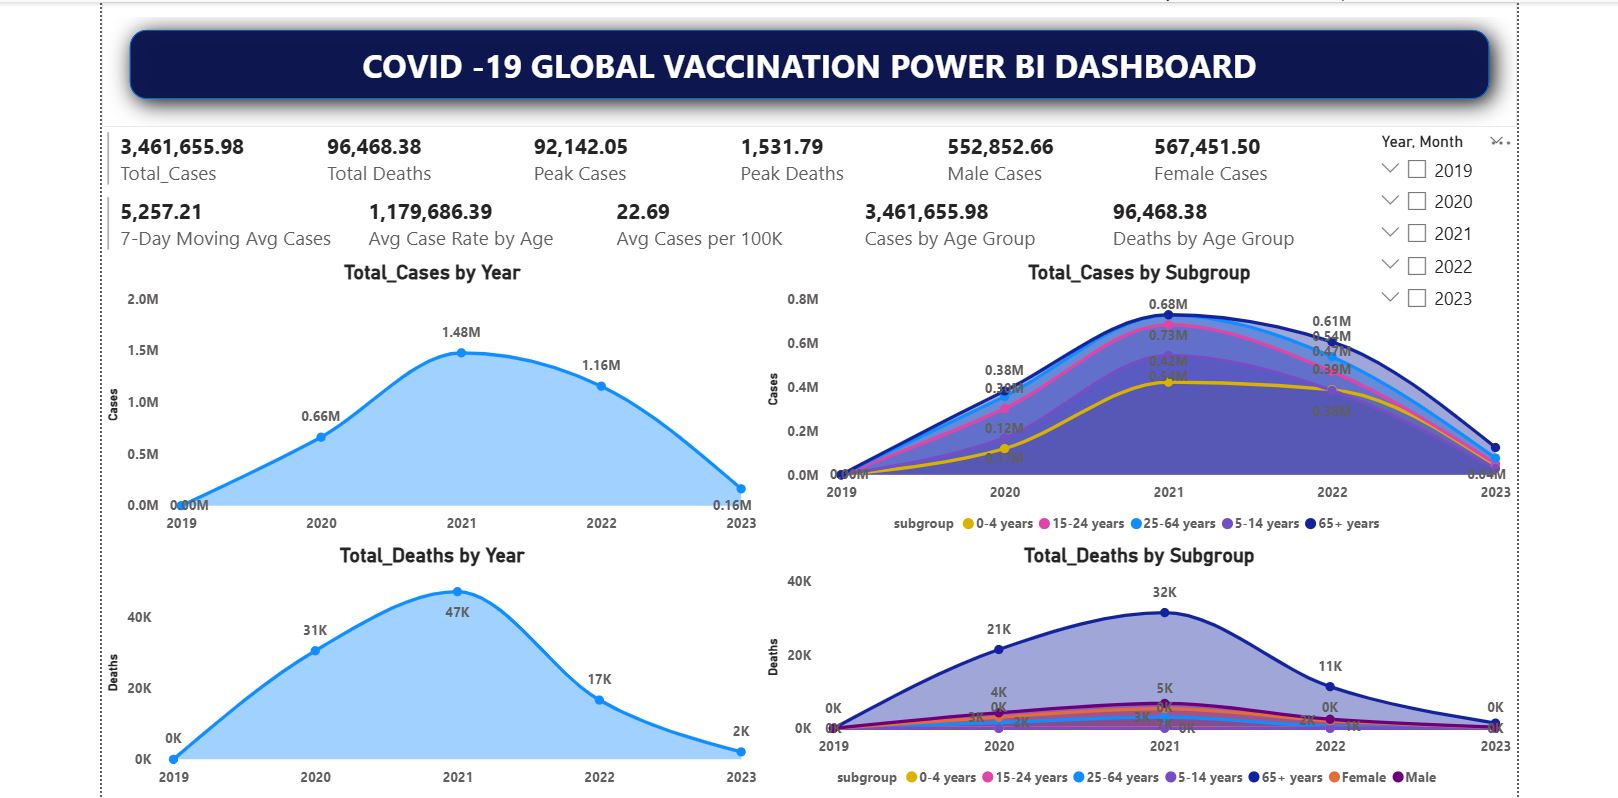

This screenshot's page, from the dashboard's own definition file:
{"tool":"powerbi","page":{"name":"Page 1","canvas":[1280,720],"ordinal":0},"visuals":[{"type":"shape","box":[0,0,1280,112.9],"z":0},{"type":"multiRowCard","fields":{"Values":["powerbi_data.Total_Cases","powerbi_data.Total Deaths","powerbi_data.Peak Cases","powerbi_data.Peak Deaths","powerbi_data.Male Cases","powerbi_data.Female Cases"]},"box":[0,112.9,1143.7,59.2],"z":1000},{"type":"multiRowCard","fields":{"Values":["powerbi_data.7-Day Moving Avg Cases","powerbi_data.Avg Case Rate by Age","powerbi_data.Avg Cases per 100K","powerbi_data.Cases by Age Group","powerbi_data.Deaths by Age Group"]},"box":[0,172,1143.7,61.9],"z":2000},{"type":"areaChart","title":"Total_Cases by Year","fields":{"Category":["powerbi_data.date.Variation.Date Hierarchy.Year","powerbi_data.date.Variation.Date Hierarchy.Quarter","powerbi_data.date.Variation.Date Hierarchy.Month","powerbi_data.date.Variation.Date Hierarchy.Day"],"Y":["powerbi_data.Total_Cases"]},"box":[0,234,597.3,256],"z":3000},{"type":"areaChart","title":"Total_Cases by Subgroup","fields":{"Category":["powerbi_data.date.Variation.Date Hierarchy.Year","powerbi_data.date.Variation.Date Hierarchy.Quarter","powerbi_data.date.Variation.Date Hierarchy.Month","powerbi_data.date.Variation.Date Hierarchy.Day"],"Y":["powerbi_data.Cases_By_Age_Group"],"Series":["powerbi_data.subgroup"]},"box":[597.3,234,682.7,256],"z":4000},{"type":"areaChart","title":"Total_Deaths by Year","fields":{"Category":["powerbi_data.date.Variation.Date Hierarchy.Year","powerbi_data.date.Variation.Date Hierarchy.Quarter","powerbi_data.date.Variation.Date Hierarchy.Month","powerbi_data.date.Variation.Date Hierarchy.Day"],"Y":["powerbi_data.Total Deaths"]},"box":[0,490,597.3,229.8],"z":5000},{"type":"areaChart","title":"Total_Deaths by Subgroup","fields":{"Category":["powerbi_data.date.Variation.Date Hierarchy.Year","powerbi_data.date.Variation.Date Hierarchy.Quarter","powerbi_data.date.Variation.Date Hierarchy.Month","powerbi_data.date.Variation.Date Hierarchy.Day"],"Y":["powerbi_data.Deaths by Age Group"],"Series":["powerbi_data.subgroup"]},"box":[597.3,490,682.7,229.8],"z":6000},{"type":"slicer","fields":{"Values":["powerbi_data.date.Variation.Date Hierarchy.Year","powerbi_data.date.Variation.Date Hierarchy.Month"]},"box":[1143.7,112.9,136.3,183.1],"z":7000}]}

Visuals, with their boxes on the page's 1280x720 design canvas (x1, y1, x2, y2). These are canvas units, not pixel positions in the 1618x798 screenshot, which may show the page scaled, cropped or inside an application window:
shape: {"left": 0, "top": 0, "right": 1280, "bottom": 113}
multiRowCard - powerbi_data.Total_Cases x powerbi_data.Total Deaths: {"left": 0, "top": 113, "right": 1144, "bottom": 172}
multiRowCard - powerbi_data.7-Day Moving Avg Cases x powerbi_data.Avg Case Rate by Age: {"left": 0, "top": 172, "right": 1144, "bottom": 234}
"Total_Cases by Year" areaChart: {"left": 0, "top": 234, "right": 597, "bottom": 490}
"Total_Cases by Subgroup" areaChart: {"left": 597, "top": 234, "right": 1280, "bottom": 490}
"Total_Deaths by Year" areaChart: {"left": 0, "top": 490, "right": 597, "bottom": 720}
"Total_Deaths by Subgroup" areaChart: {"left": 597, "top": 490, "right": 1280, "bottom": 720}
slicer - powerbi_data.date.Variation.Date Hierarchy.Year x powerbi_data.date.Variation.Date Hierarchy.Month: {"left": 1144, "top": 113, "right": 1280, "bottom": 296}
